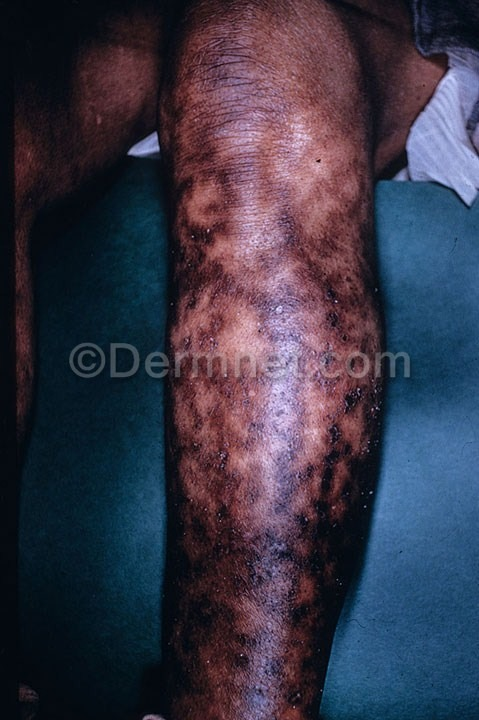Melasma: (302, 191, 476, 574), (160, 0, 346, 3)
